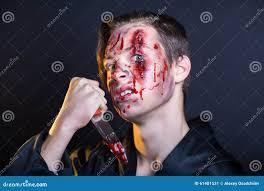Fire: (104, 27, 174, 115)
